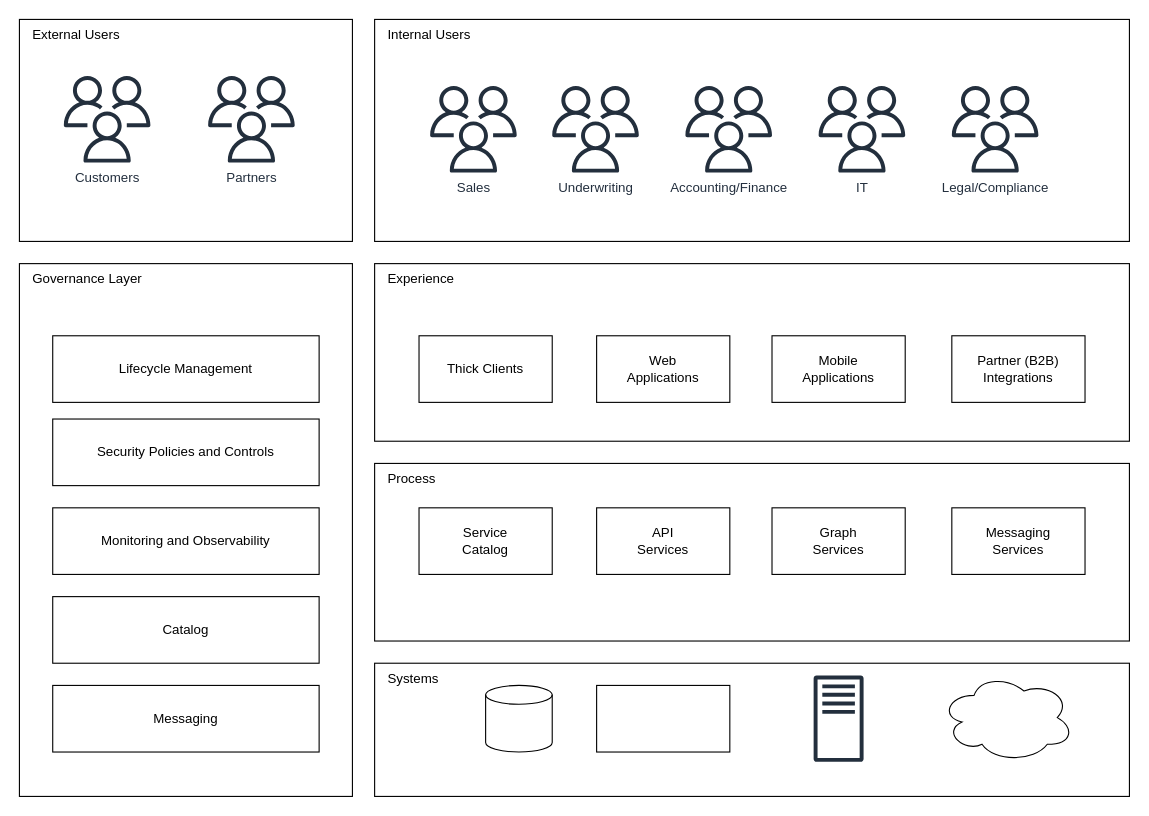
The diagram is 1149 pixels wide and 816 high, and some of its shapes have lost their labels. The centre of each missing label's shape, as x and y in pixels:
"Cloud" belongs at [1007,717].
"Databases" belongs at [518,718].
"Legacy Systems" belongs at [663,718].
"Servers" belongs at [838,718].
